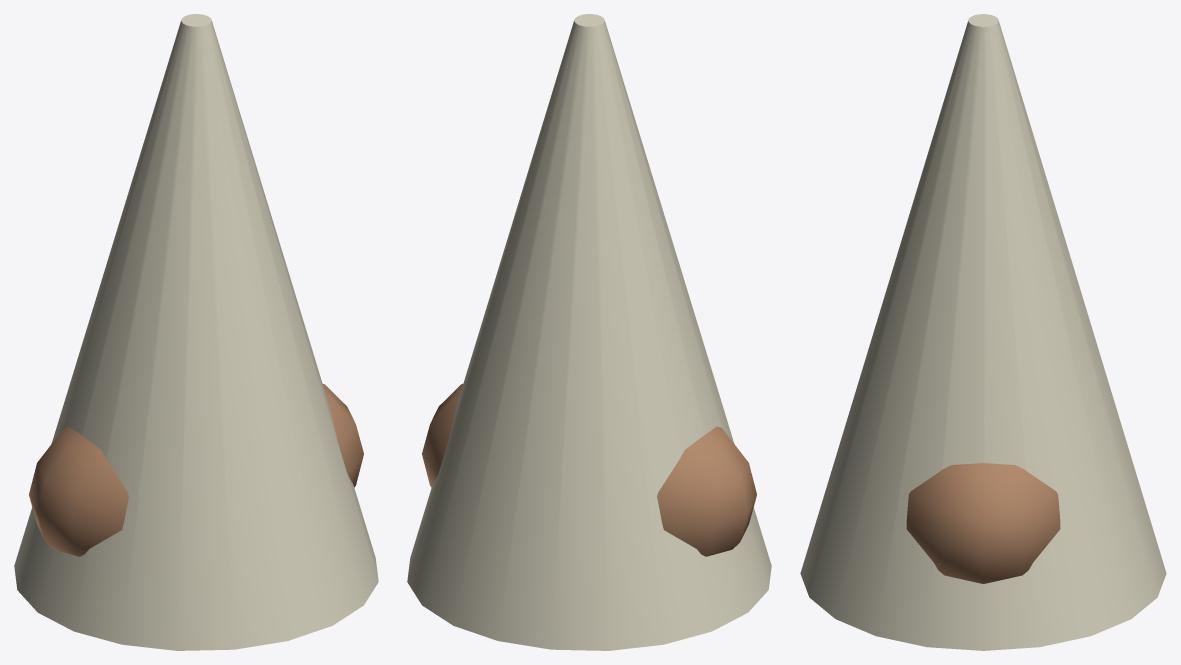
File: prehistoric-expedition-sites-tooth-fragment-c2945b91__26112.glb
The picture shows the model from 3 angles, left to right: view 1: azimuth 30°, elevation 25°; view 2: azimuth 150°, elevation 25°; view 3: azimuth 270°, elevation 25°; orthographic projection.
Parts seen in each view (by area): view 1: tooth-fragment; view 2: tooth-fragment; view 3: tooth-fragment.
Boxes of the visible parts, x1=… form: tooth-fragment: x1=14, y1=14, x2=378, y2=650; tooth-fragment: x1=407, y1=14, x2=771, y2=650; tooth-fragment: x1=800, y1=14, x2=1166, y2=650.
Size of the model in its own units: 0.12 by 0.2 by 0.12.
